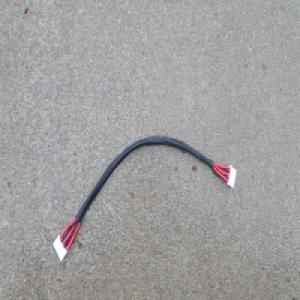Wire: (50, 132, 238, 263)
